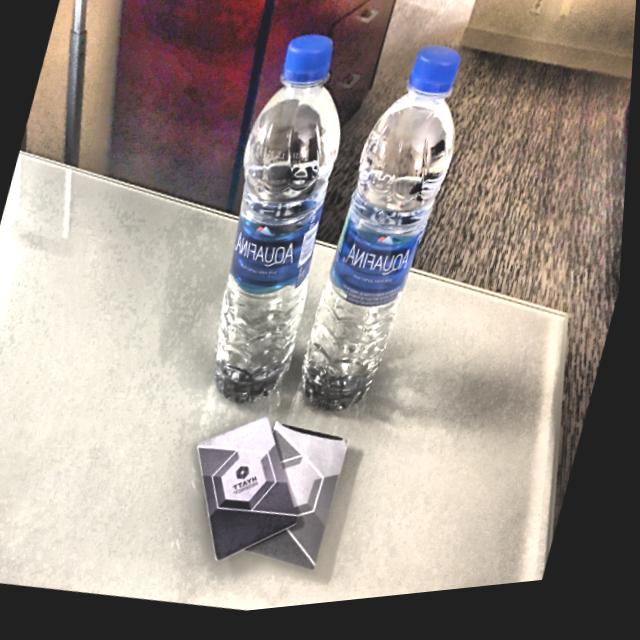Bottles: (174, 12, 387, 429), (294, 32, 485, 440)
